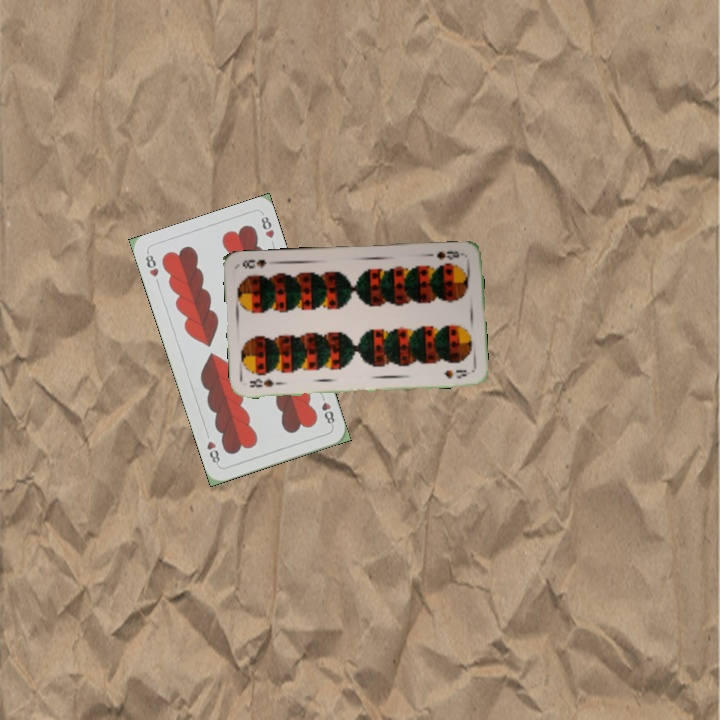H8: (317, 390, 337, 429), (141, 248, 162, 280)
S8: (245, 374, 284, 390), (433, 247, 466, 263)
